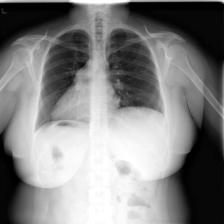normal: (28, 23, 171, 130)
